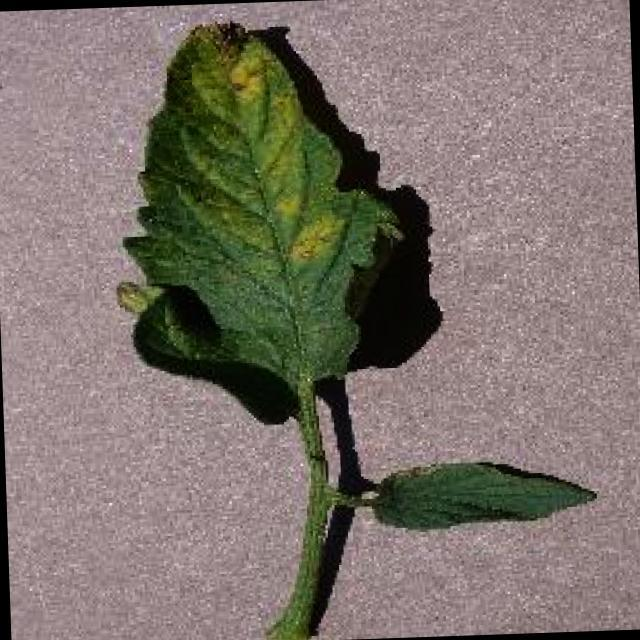Tomato Septoria spot leaf: (107, 14, 410, 427)
